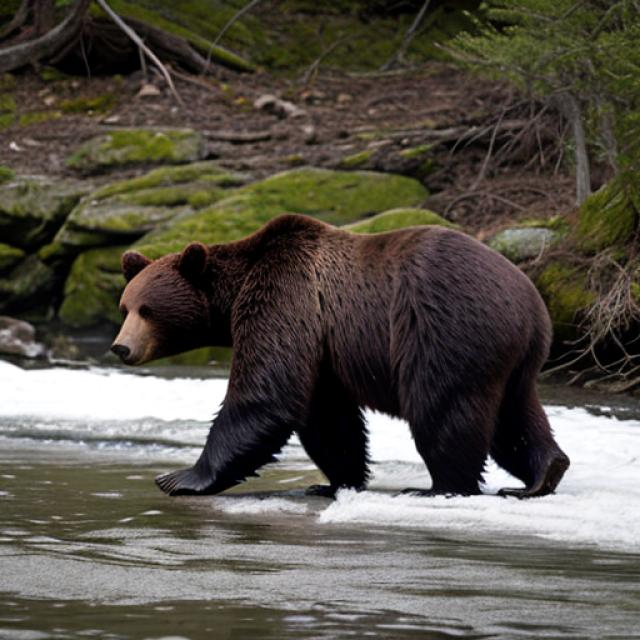bear: (95, 204, 531, 486)
